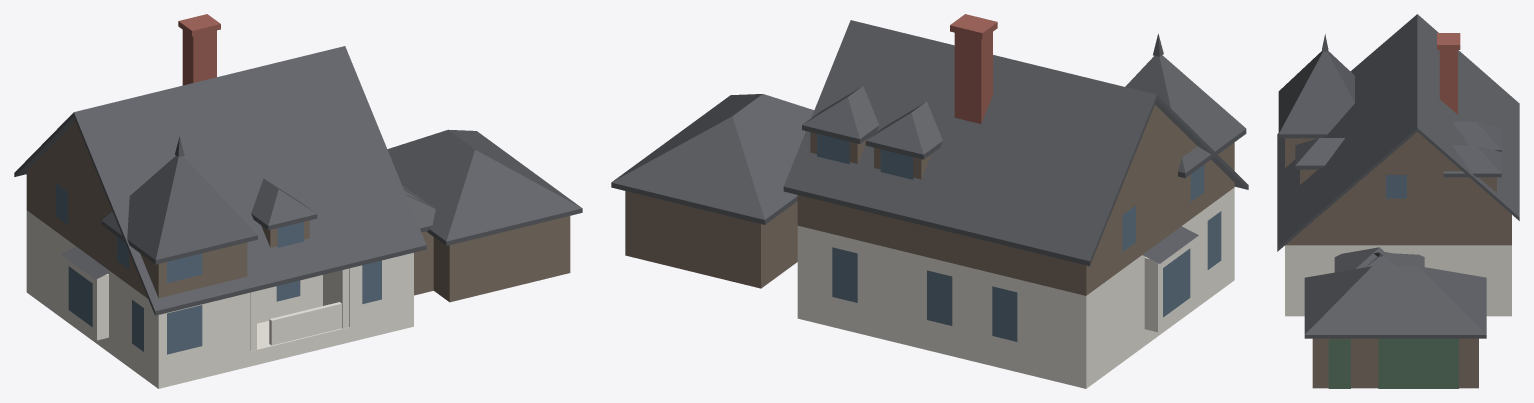
Rendered from nyc-coney-island-keepers-quarters.glb.
3 views of the same model, side by side, from view 1: azimuth 30°, elevation 25°; view 2: azimuth 150°, elevation 25°; view 3: azimuth 270°, elevation 25° (orthographic). The views are drawn at different scales.
Parts seen in each view (by area): view 1: Keeper's Quarters, Coney Island Light; view 2: Keeper's Quarters, Coney Island Light; view 3: Keeper's Quarters, Coney Island Light.
Boxes of the visible parts, bbox=[...] form: Keeper's Quarters, Coney Island Light: bbox=[14, 14, 582, 388]; Keeper's Quarters, Coney Island Light: bbox=[611, 14, 1248, 388]; Keeper's Quarters, Coney Island Light: bbox=[1277, 14, 1519, 388].
Size of the model in its own units: 17.19 by 9.6 by 9.29.
